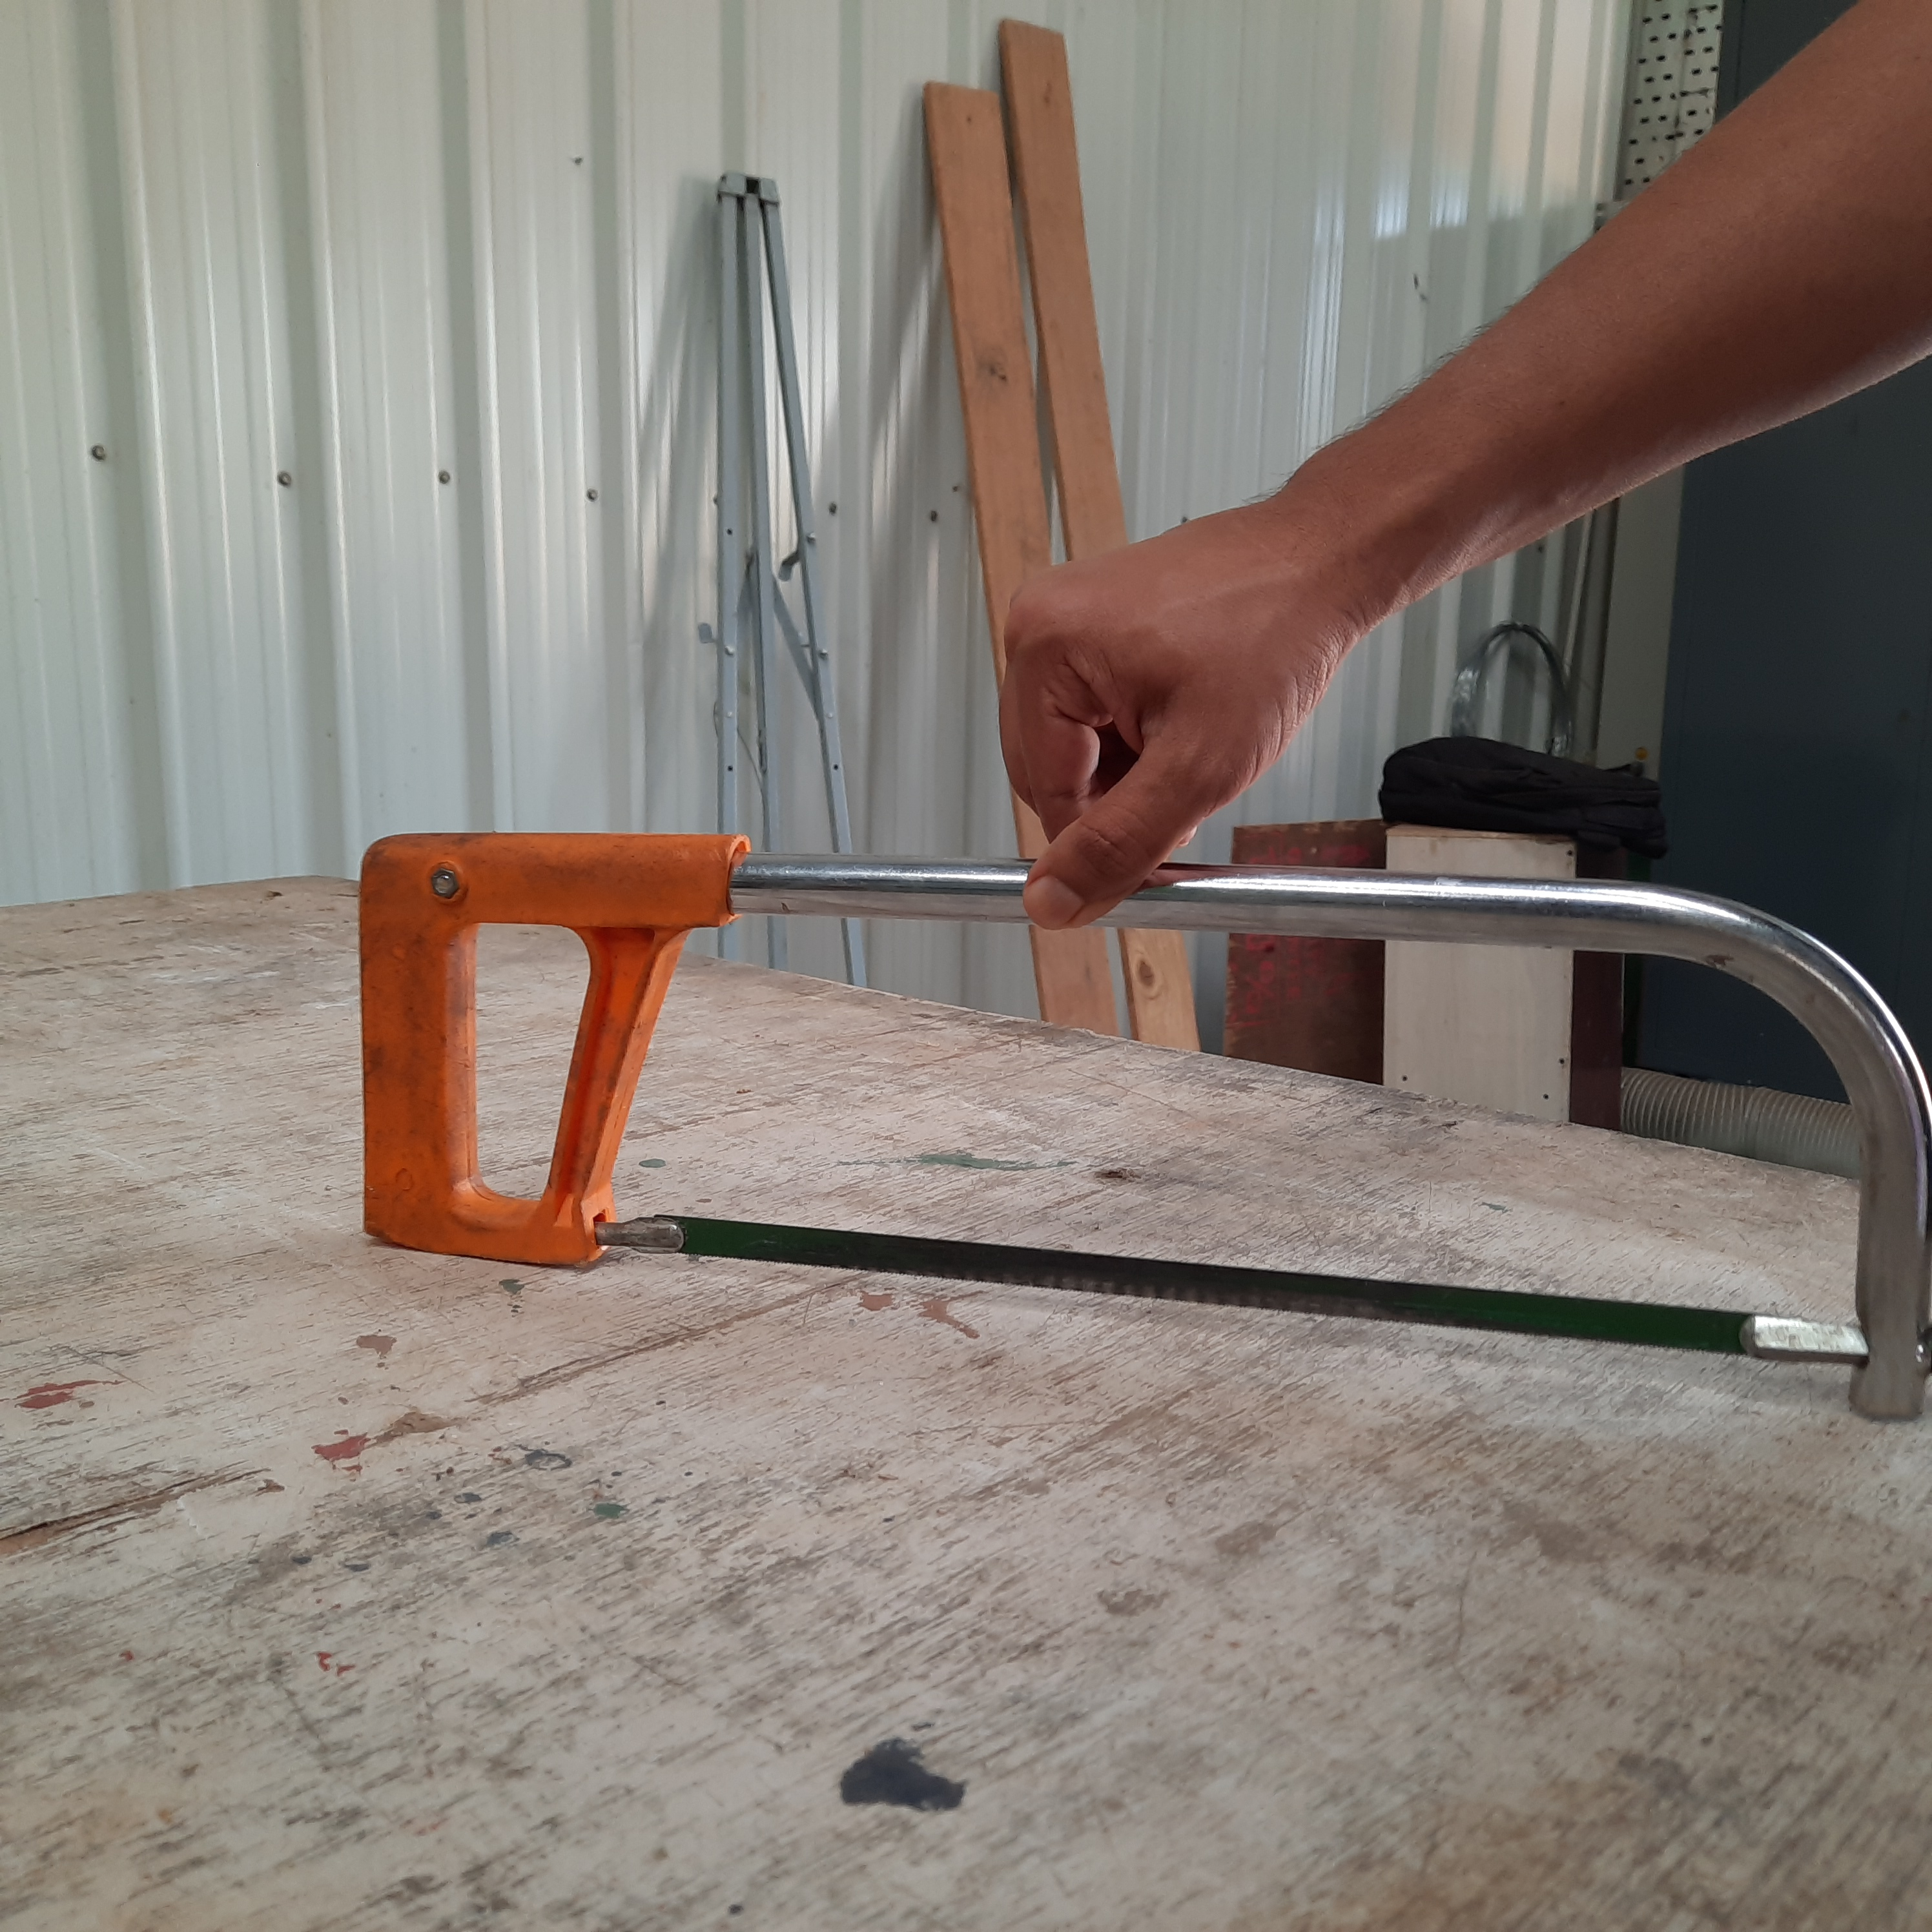Hexaframe: (290, 798, 1932, 1461)
